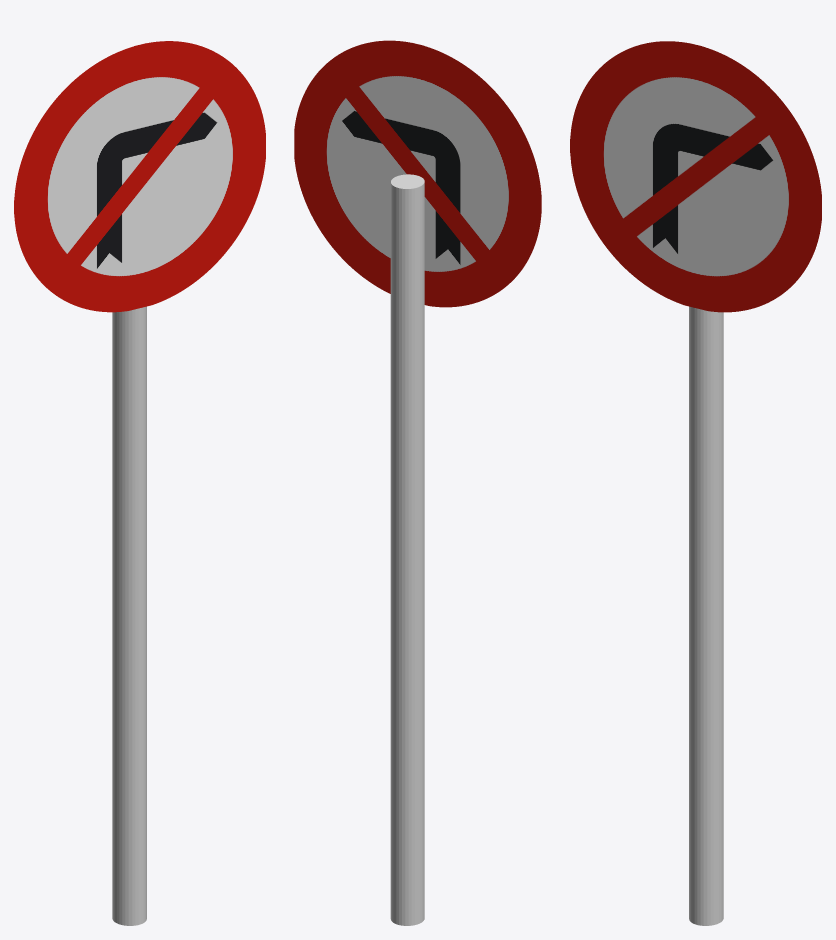
Rendered from roadsing_turnban.dae.
3 renders of one model, left to right at view 1: azimuth 30°, elevation 25°; view 2: azimuth 150°, elevation 25°; view 3: azimuth 330°, elevation 25°, orthographic.
Parts seen in each view (by area): view 1: Cylinder; view 2: Cylinder; view 3: Cylinder.
Part boxes in pixels (bbox=[...]): Cylinder: bbox=[14, 41, 265, 925]; Cylinder: bbox=[294, 40, 541, 925]; Cylinder: bbox=[570, 41, 821, 925].
Bounding box in the file's own units: 0.599 × 0.0797 × 2.
Materials: 2 (1 with a texture image).
